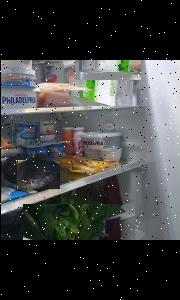Aguacate: (16, 160, 59, 189)
Leche: (69, 68, 137, 106)
Salchichas: (74, 60, 140, 80)
Yogur: (11, 121, 39, 145), (38, 120, 56, 142)
